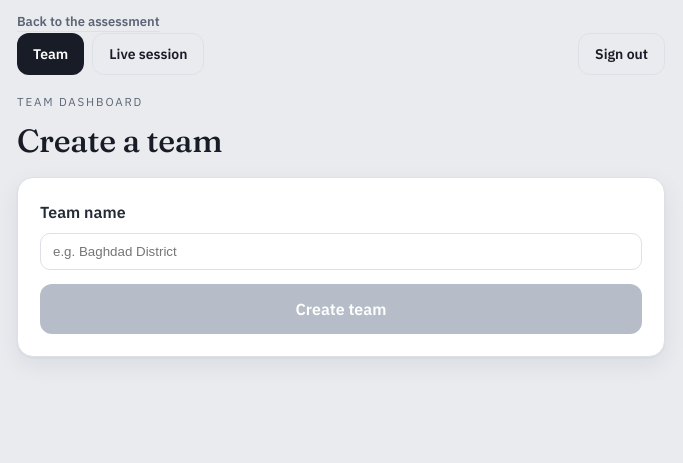
ManagerApp session tab › ends the session
Step 1. Click the button "Live session" → coordinates (148, 54), box [92,33,204,75]
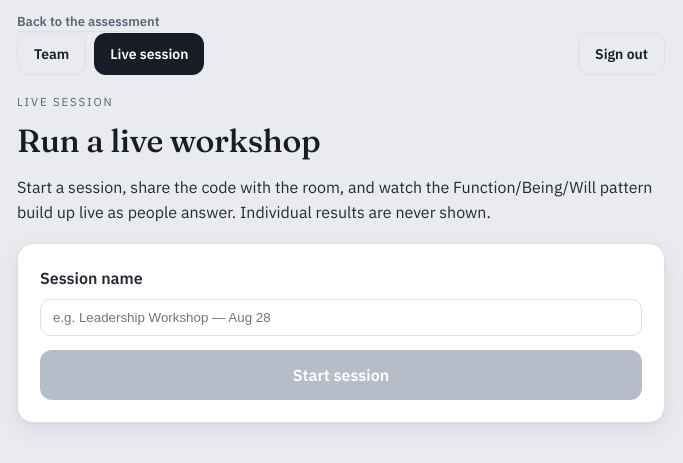
Step 2. Type "Workshop A" into the field with placeholder "e.g. Leadership Workshop — Aug 28" → coordinates (341, 317), box [40,299,642,336]
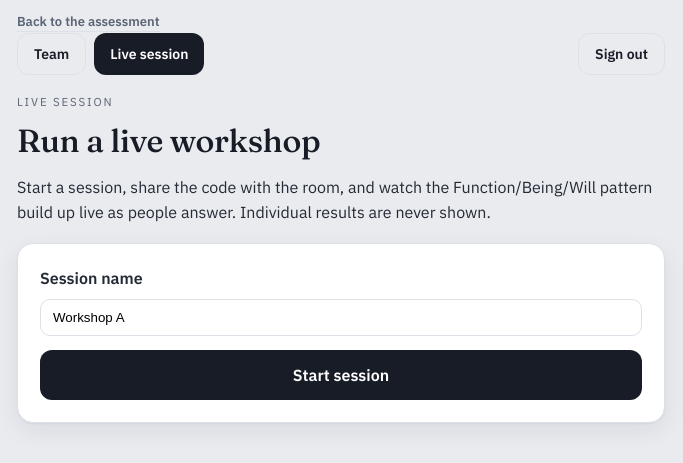
Step 3. Click the button "Start session" → coordinates (341, 375), box [40,350,642,400]
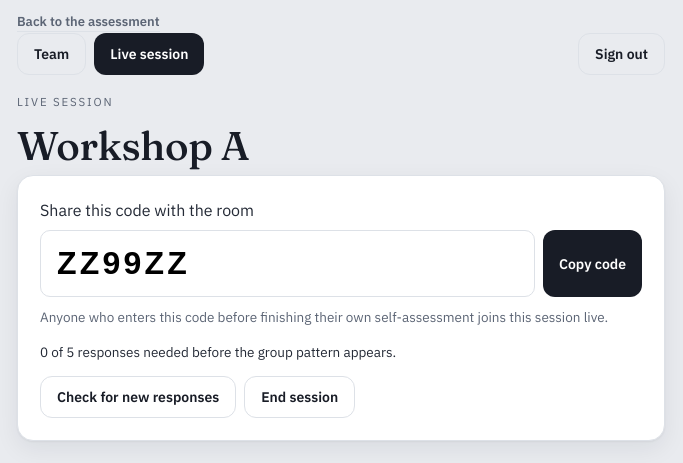
Check: the field showing "ZZ99ZZ" is shown, box [40,230,535,297]
Step 4. Click the button "End session" → coordinates (300, 397), box [244,376,355,418]
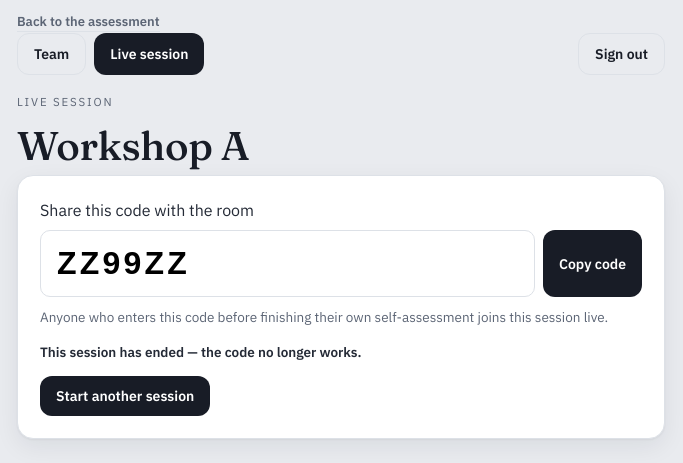
Check: the text "This session has ended — the code no longer works." is shown, box [40,343,362,361]
